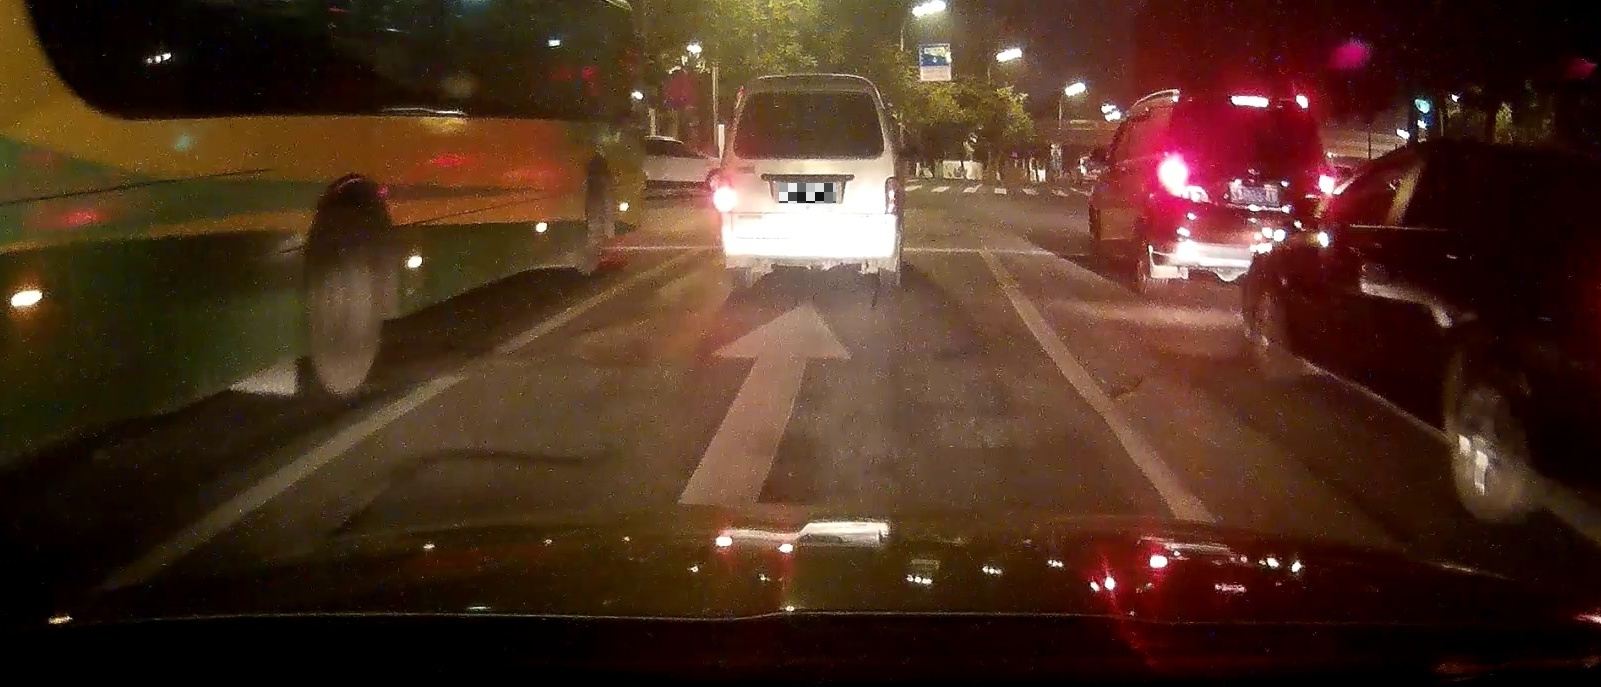L_light: (1153, 152, 1211, 203), (713, 178, 736, 213)
R_light: (1310, 165, 1338, 197), (884, 176, 902, 214)
T_light: (1229, 95, 1269, 107), (793, 89, 820, 97)
night-brake: (1153, 91, 1339, 298)
night-left: (714, 73, 903, 289)
plate_1: (779, 183, 836, 203)
